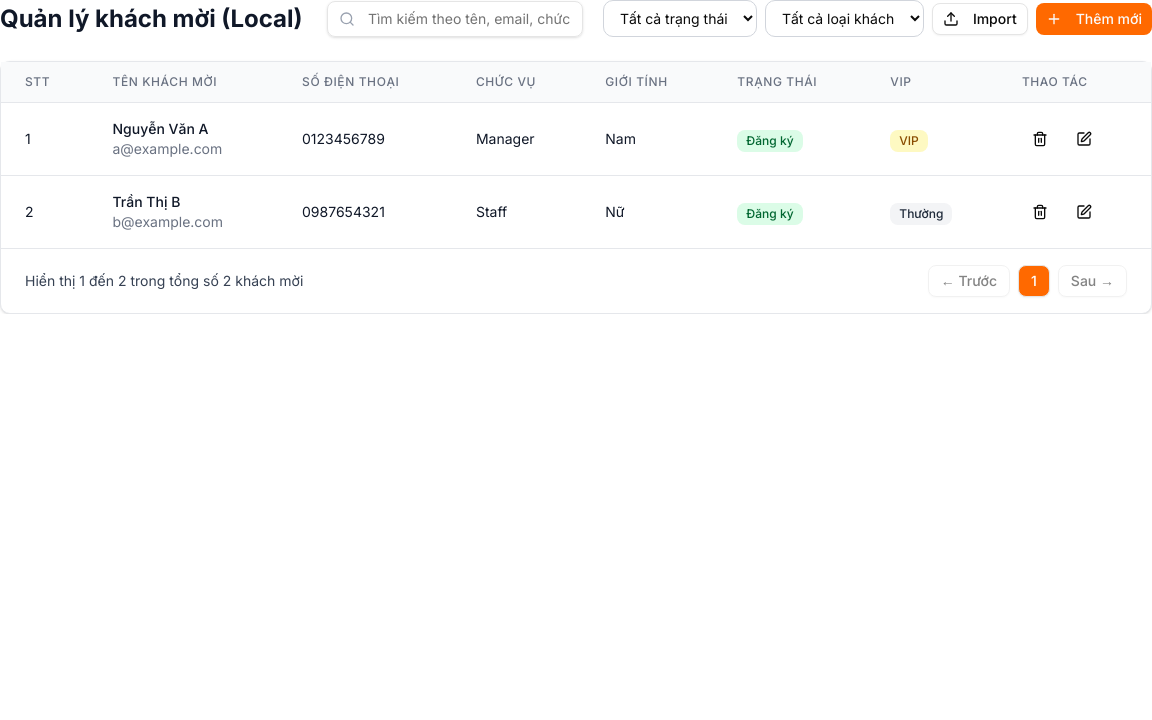
Scenario: QuanLyKhachMoiLocalPage (SUPERADMIN) › should delete person successfully
Later steps or results of the test are not shown.
Expected: the text "Nguyễn Văn A" is shown, [112,119,222,139]
// Click delete button
Click the 3rd button. click: point(1040, 139)
box: [1022,123,1058,155]
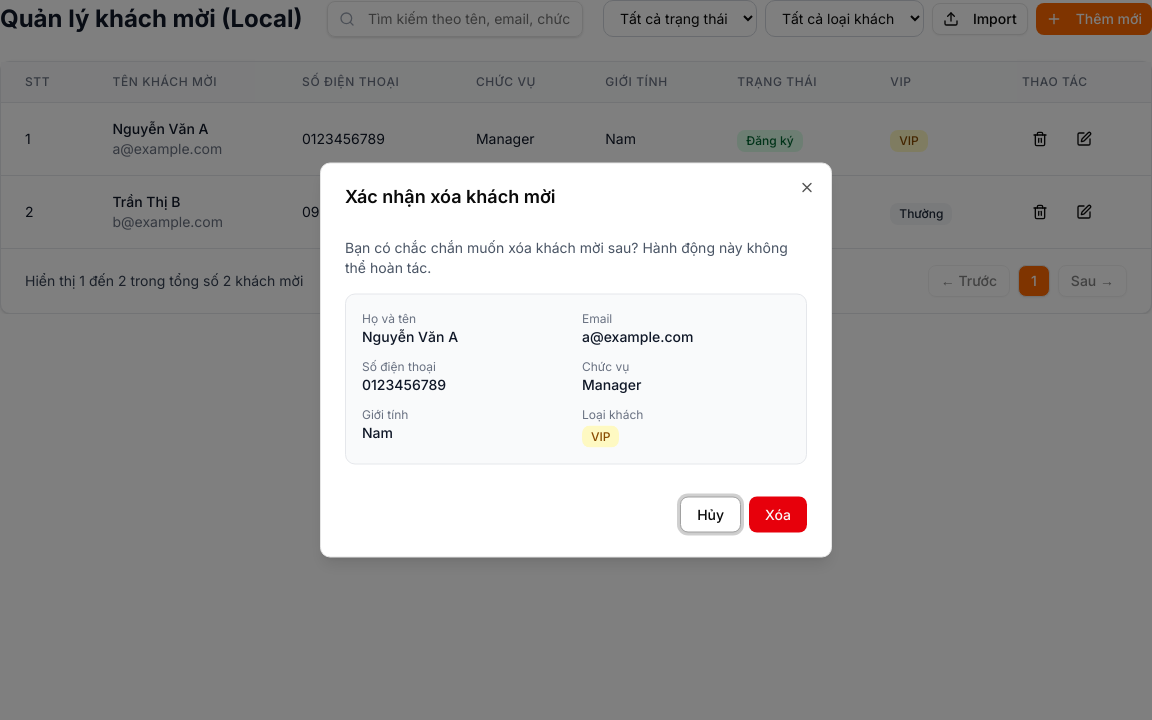
Expected: the heading "Xác nhận xóa khách mời" is shown, [345,186,556,206]
